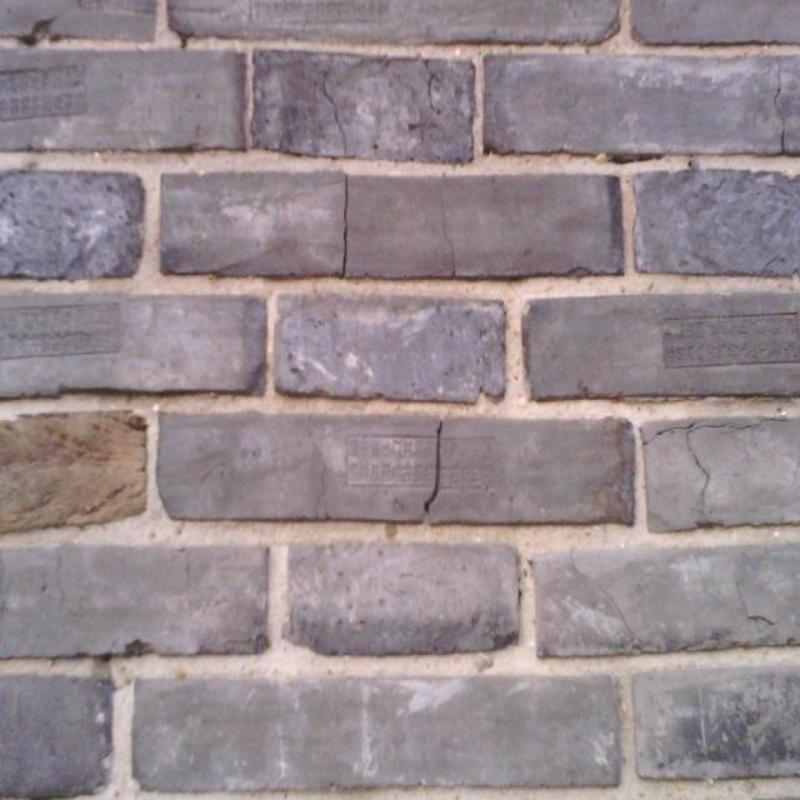crack: (570, 554, 650, 647), (685, 421, 736, 509), (322, 61, 348, 157), (308, 416, 331, 521), (736, 583, 779, 625), (424, 421, 443, 513), (643, 419, 704, 446), (439, 195, 457, 278), (20, 15, 60, 44), (772, 74, 786, 154), (342, 175, 349, 276), (56, 549, 66, 610), (611, 154, 662, 164), (425, 60, 437, 98), (729, 420, 765, 430), (180, 34, 190, 50)
